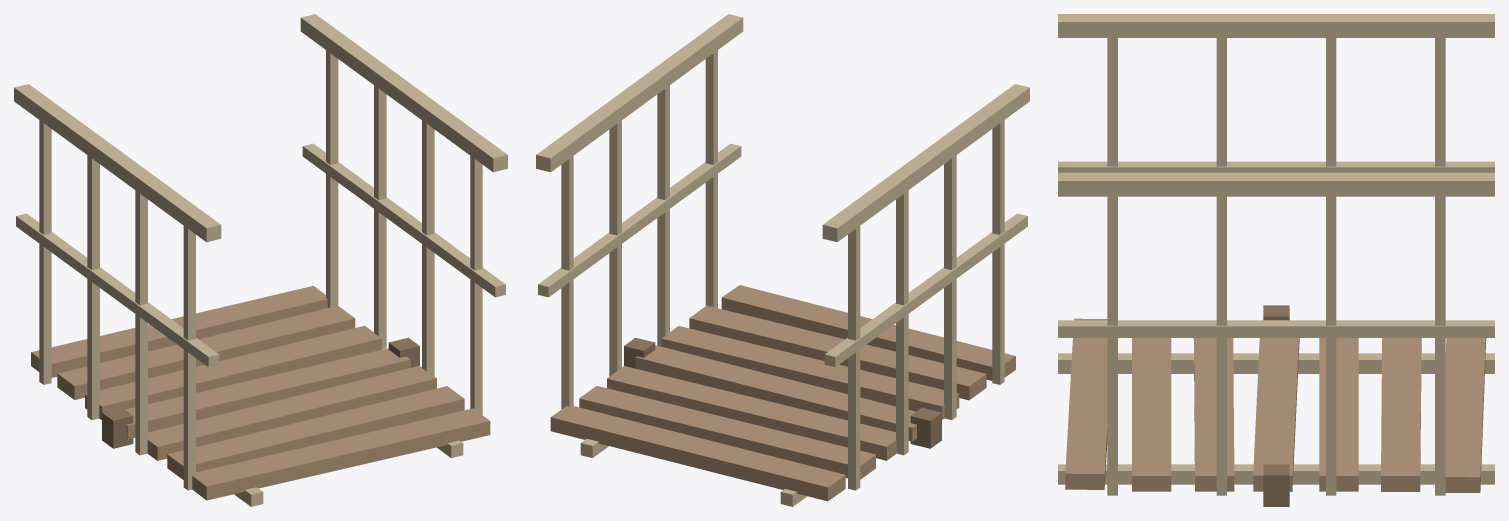
File: bridge-rope-single.glb
The picture shows the model from 3 angles, left to right: view 1: azimuth 30°, elevation 25°; view 2: azimuth 150°, elevation 25°; view 3: azimuth 270°, elevation 25°; orthographic projection. The views are drawn at different scales.
Parts seen in each view (by area): view 1: bridge-rope-single; view 2: bridge-rope-single; view 3: bridge-rope-single.
Boxes of the visible parts, bbox=[...] form: bridge-rope-single: bbox=[14, 14, 507, 506]; bridge-rope-single: bbox=[536, 14, 1029, 506]; bridge-rope-single: bbox=[1058, 14, 1494, 506].
Bounding box in the file's own units: 0.92 × 0.83 × 1.
